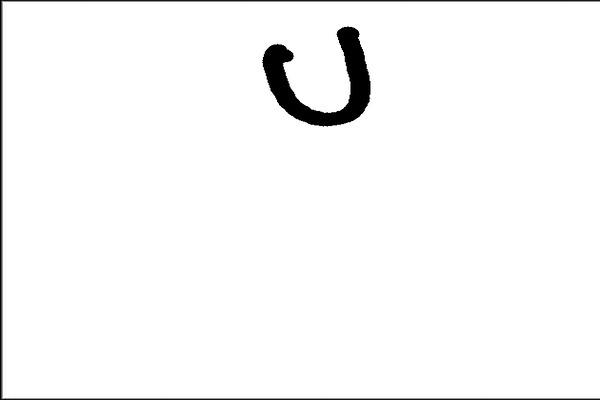U: (258, 19, 387, 130)
